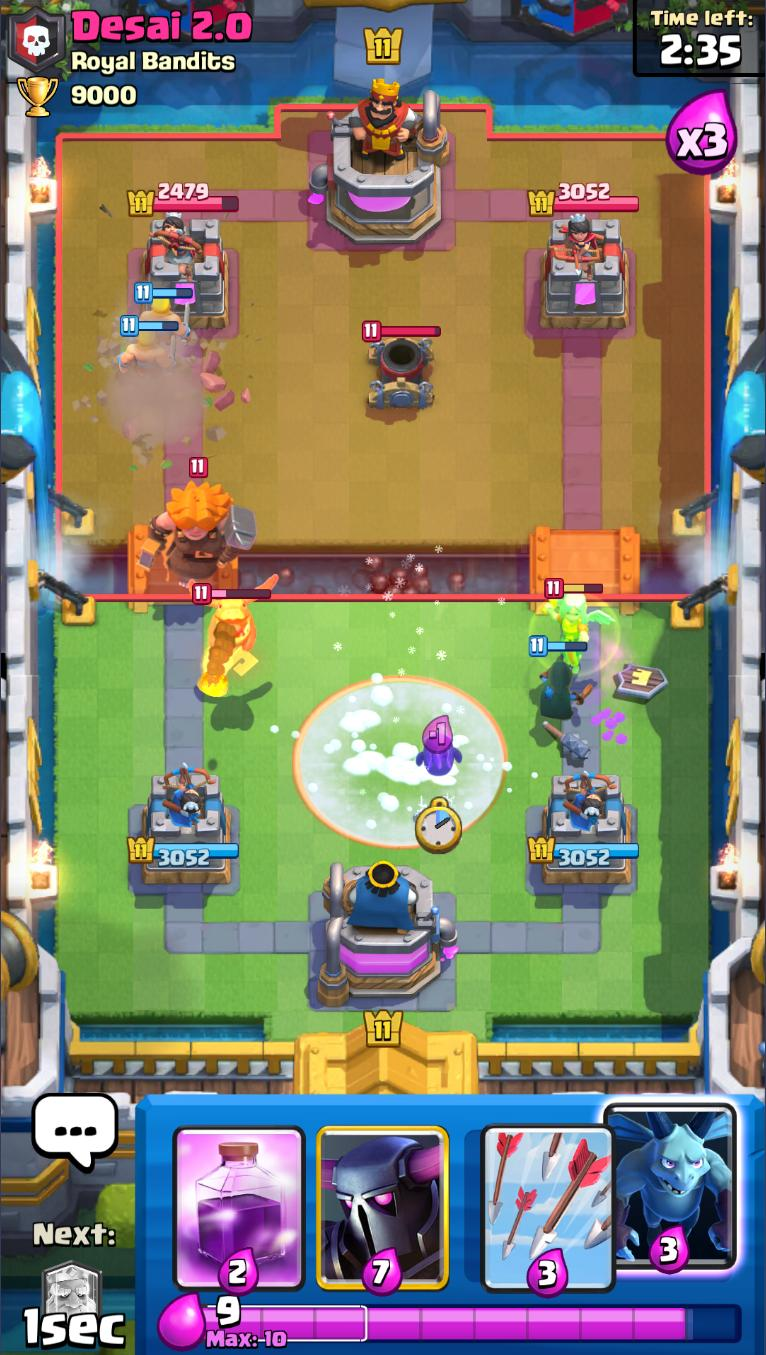ArrowDeck: (455, 1099, 598, 1295)
BabyDragon: (186, 575, 280, 654)
Elixir: (203, 1296, 744, 1351)
EnemyTower: (135, 216, 234, 331), (537, 216, 633, 333)
Freeze: (293, 678, 506, 850)
Healer: (544, 578, 614, 675)
KingTower: (307, 78, 453, 247)
MinionsDeck: (597, 1097, 742, 1298)
Mortar: (362, 319, 442, 413)
MyBandit: (527, 637, 585, 721)
MyBarbarian: (115, 314, 179, 374), (132, 281, 193, 340)
MyElectroSpirit: (413, 737, 463, 778)
MyKingTower: (315, 859, 460, 1009)
MyPrincessTower: (526, 770, 641, 890), (128, 772, 242, 890)
MyPrincessTowerHP: (127, 836, 241, 869), (525, 835, 641, 867)
PekkaDeck: (312, 1101, 453, 1296)
RageDeck: (166, 1096, 312, 1295)
RoyaleGhostNext: (41, 1262, 105, 1343)
RuneGiant: (136, 457, 256, 588)
TowerPrincessHP: (528, 182, 640, 219), (128, 182, 241, 218)
